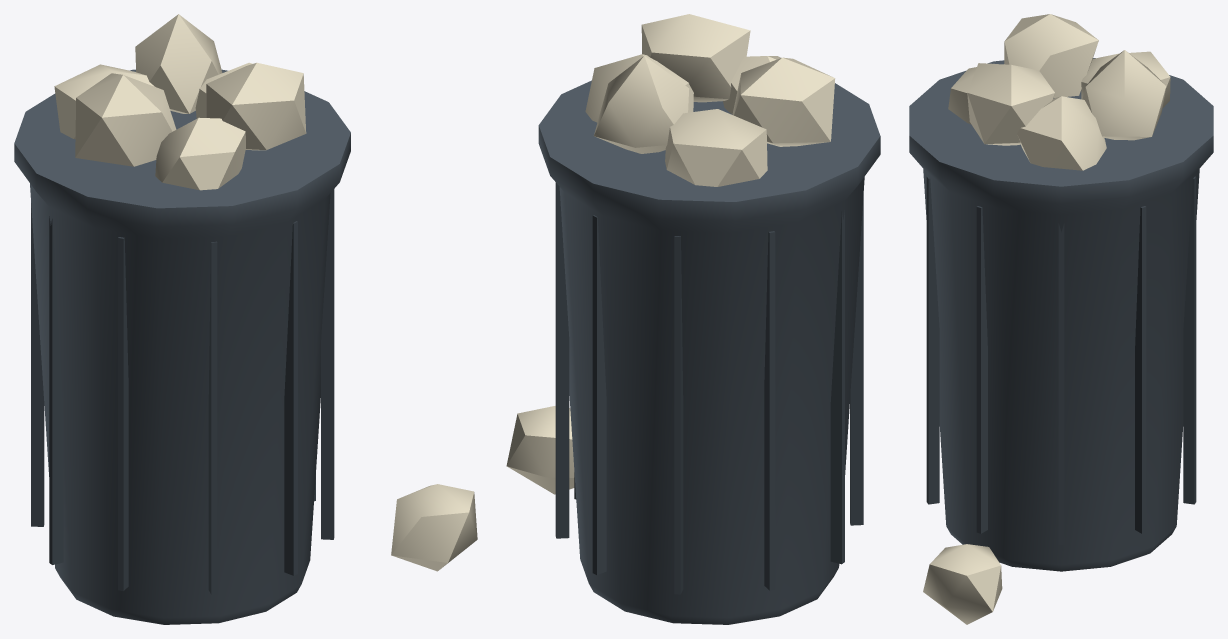
The model's file is trash_can_block.glb.
3 renders of one model, left to right at view 1: azimuth 30°, elevation 25°; view 2: azimuth 150°, elevation 25°; view 3: azimuth 270°, elevation 25°, orthographic. The views are drawn at different scales.
Parts seen in each view (by area): view 1: trash_can; view 2: trash_can; view 3: trash_can.
Boxes of the visible parts, x1,y1,x2,y2 form: trash_can: (14,14,477,624); trash_can: (506,14,880,624); trash_can: (909,14,1213,624).
Bounding box in the file's own units: 0.8728 × 1.16 × 0.6435.
